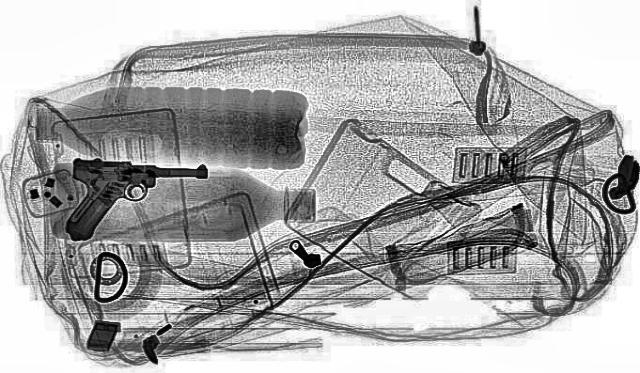Gun: (42, 152, 214, 252)
